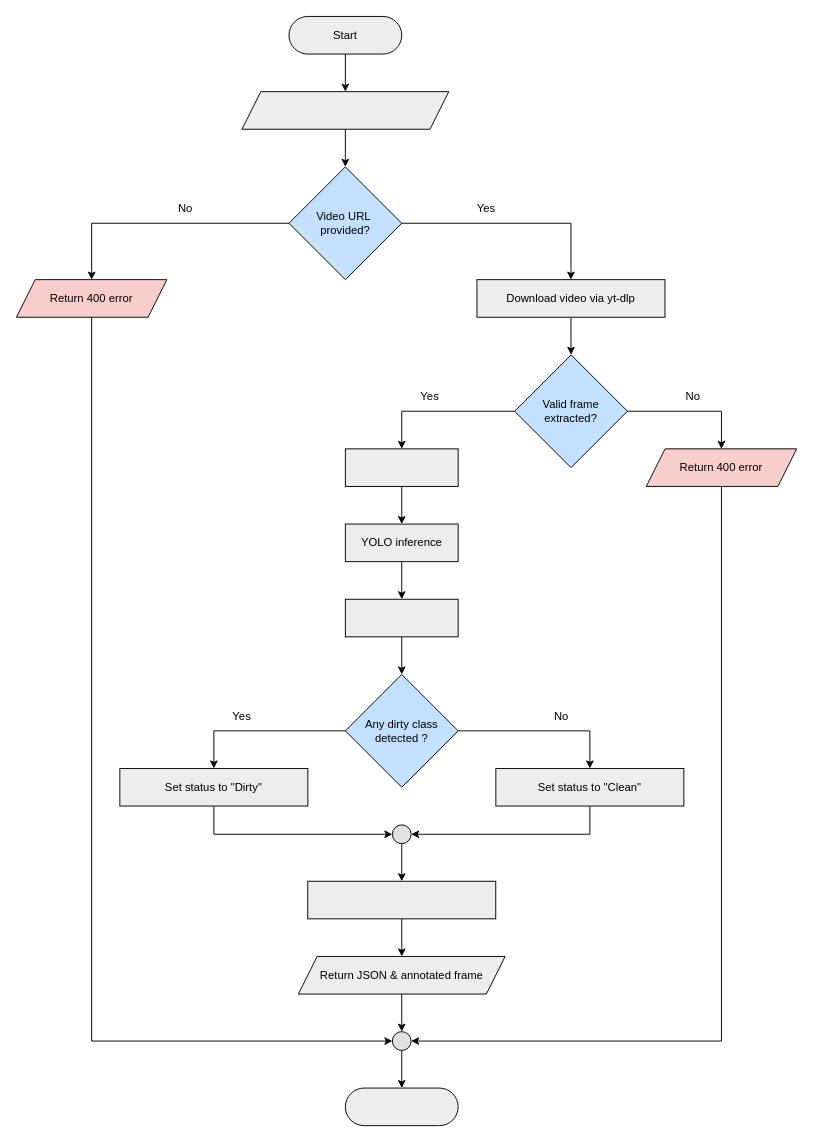
The diagram is 813 pixels wide and 1142 high, and some of its shapes have lost their labels. The shapes that lost their labels are listed below. From the top down, each one's centre as x and y in pixels, then its label:
At (x=345, y=110): "Client sends POST /process-video".
At (x=401, y=467): "Acquire model lock".
At (x=401, y=617): "Process detection".
At (x=401, y=899): "encode frame & build JSON".
At (x=401, y=1106): "End".
